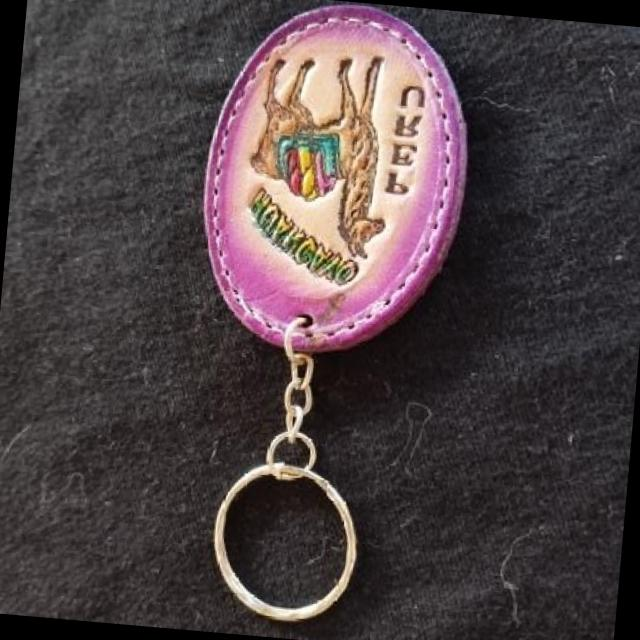Llavero: (188, 0, 481, 366)
